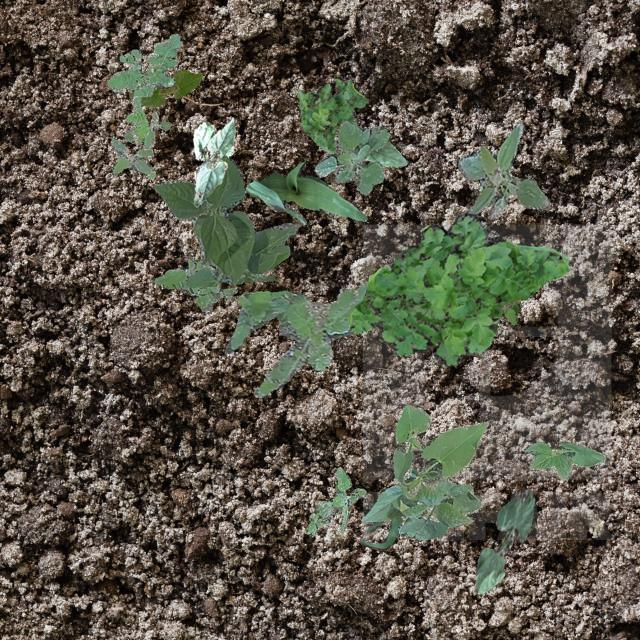crop: (152, 156, 296, 286), (359, 404, 486, 540), (244, 160, 366, 223), (472, 488, 534, 592), (358, 464, 416, 548), (192, 117, 235, 206), (524, 440, 604, 480), (128, 68, 202, 106), (192, 120, 232, 178), (364, 140, 406, 166)
weed: (348, 212, 570, 366), (224, 279, 366, 396), (458, 122, 550, 218), (106, 32, 180, 144), (314, 120, 389, 194), (296, 75, 366, 154), (152, 256, 236, 312), (304, 466, 366, 534), (110, 110, 168, 178), (500, 296, 520, 324)
